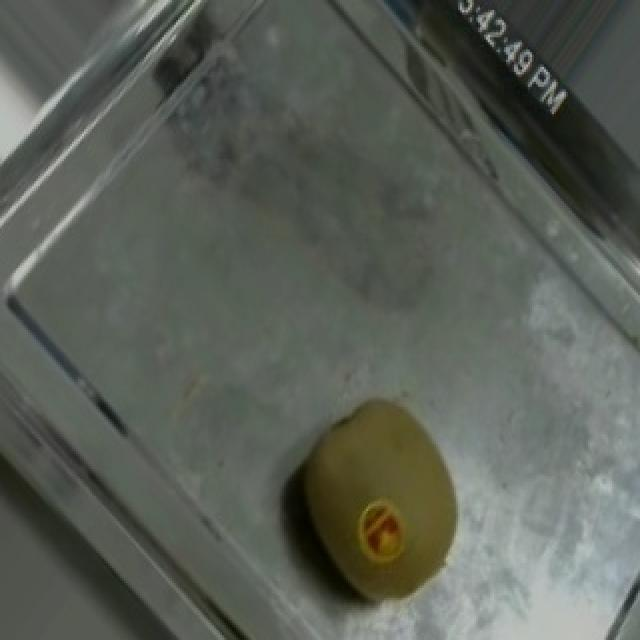Fruit: (256, 374, 502, 638)
